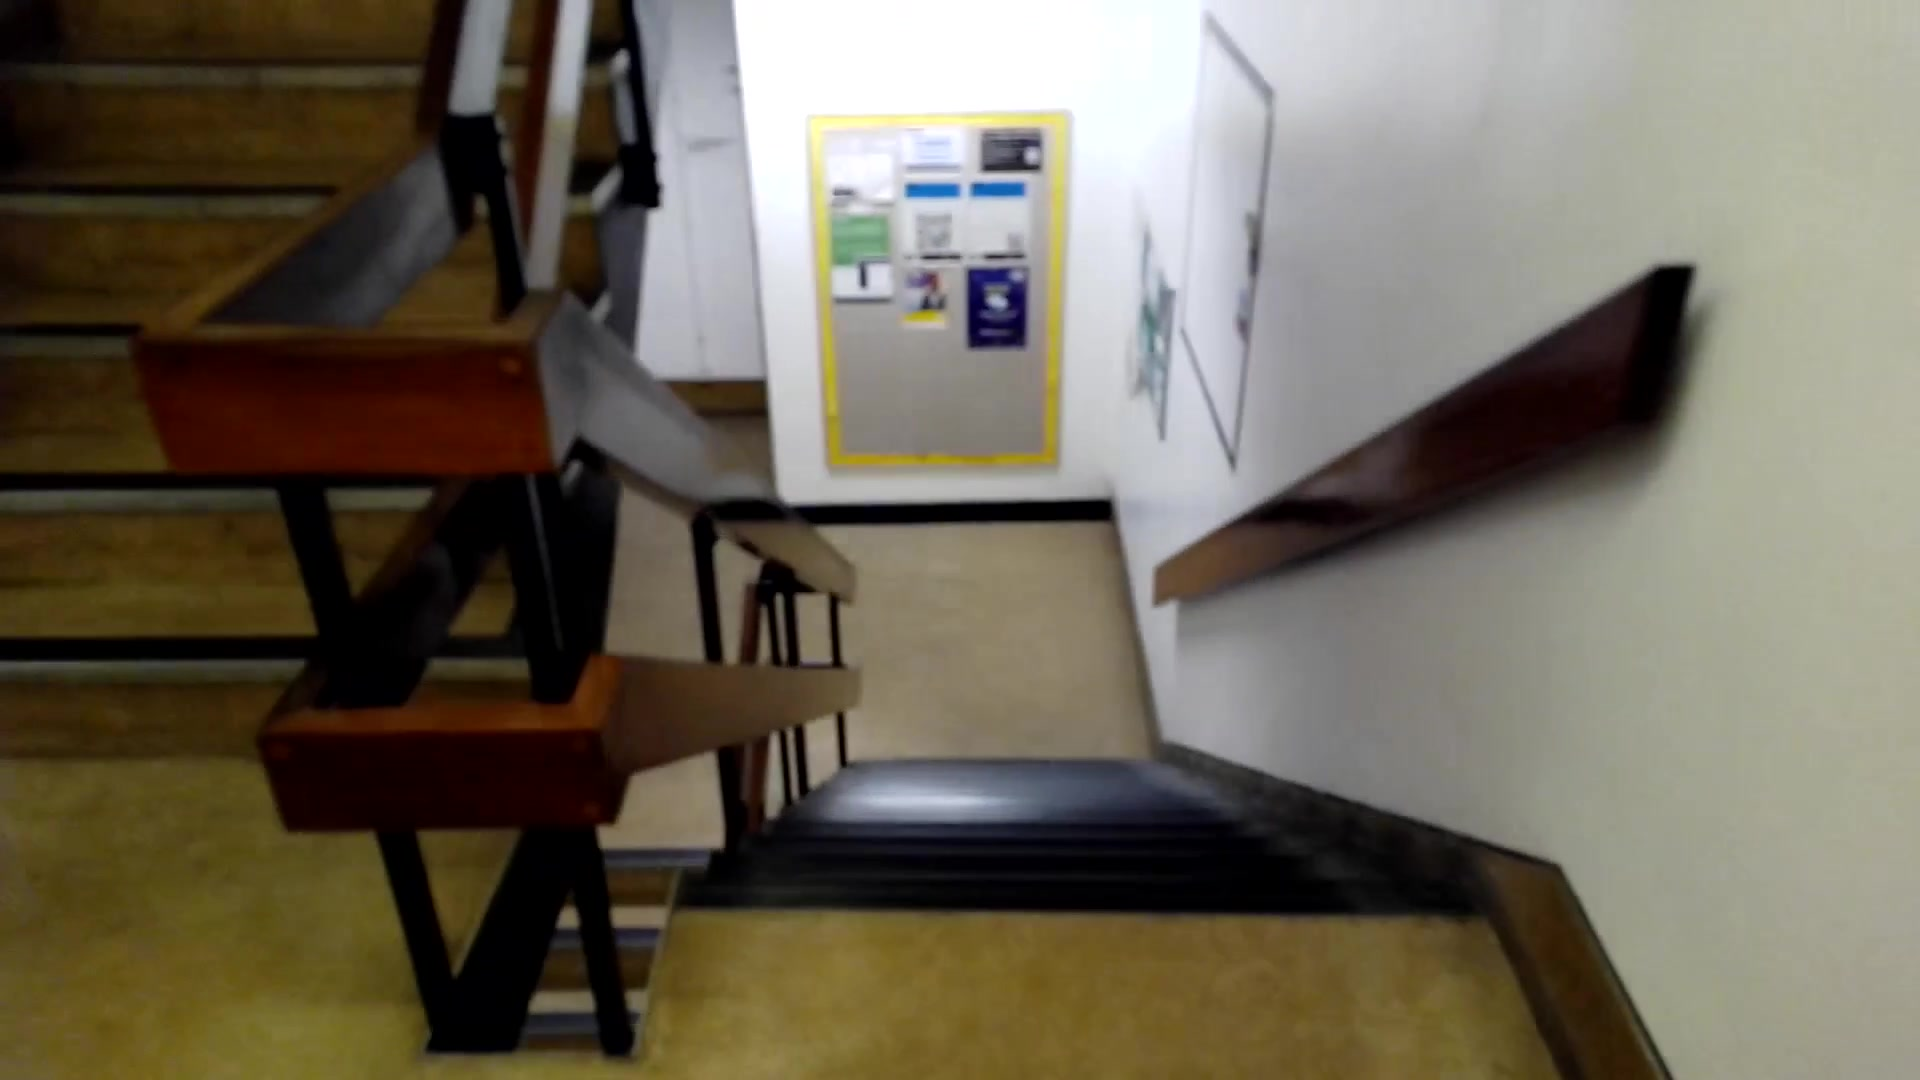Stairs: (709, 258, 1700, 928)
